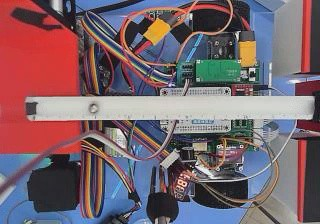ironball: (88, 102, 98, 113)
